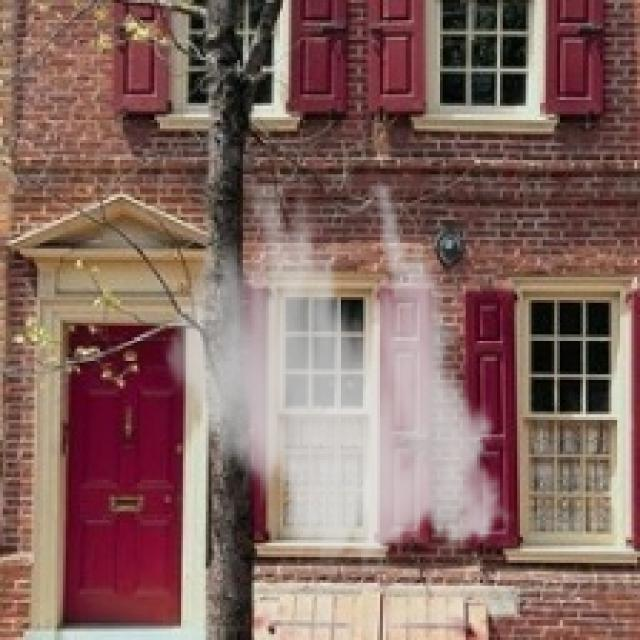smoke: (154, 183, 520, 577)
